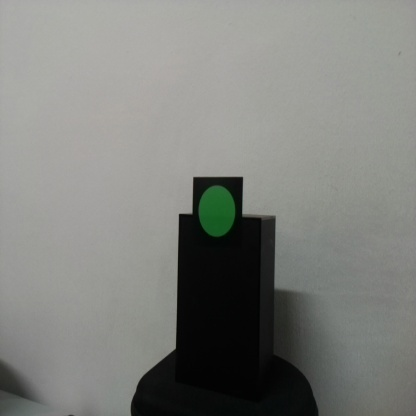id_5: (193, 179, 243, 249)
